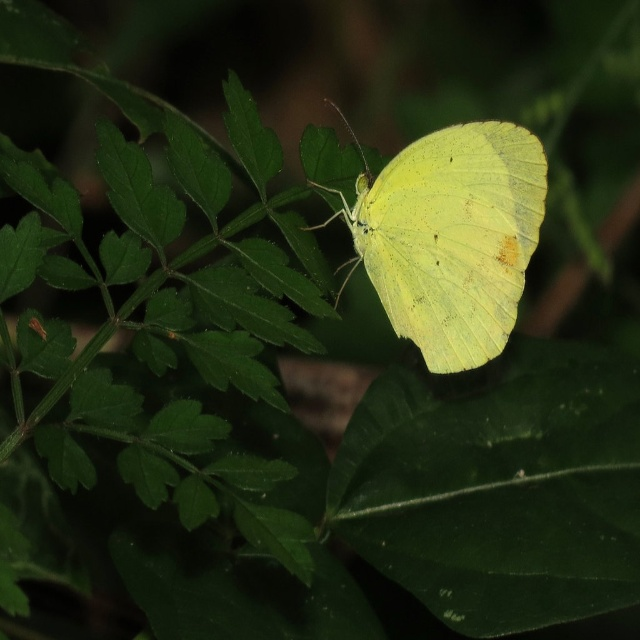Butterfly: (300, 96, 548, 375)
